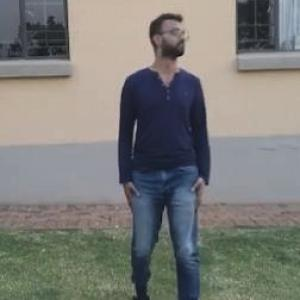follow: (110, 0, 222, 297)
